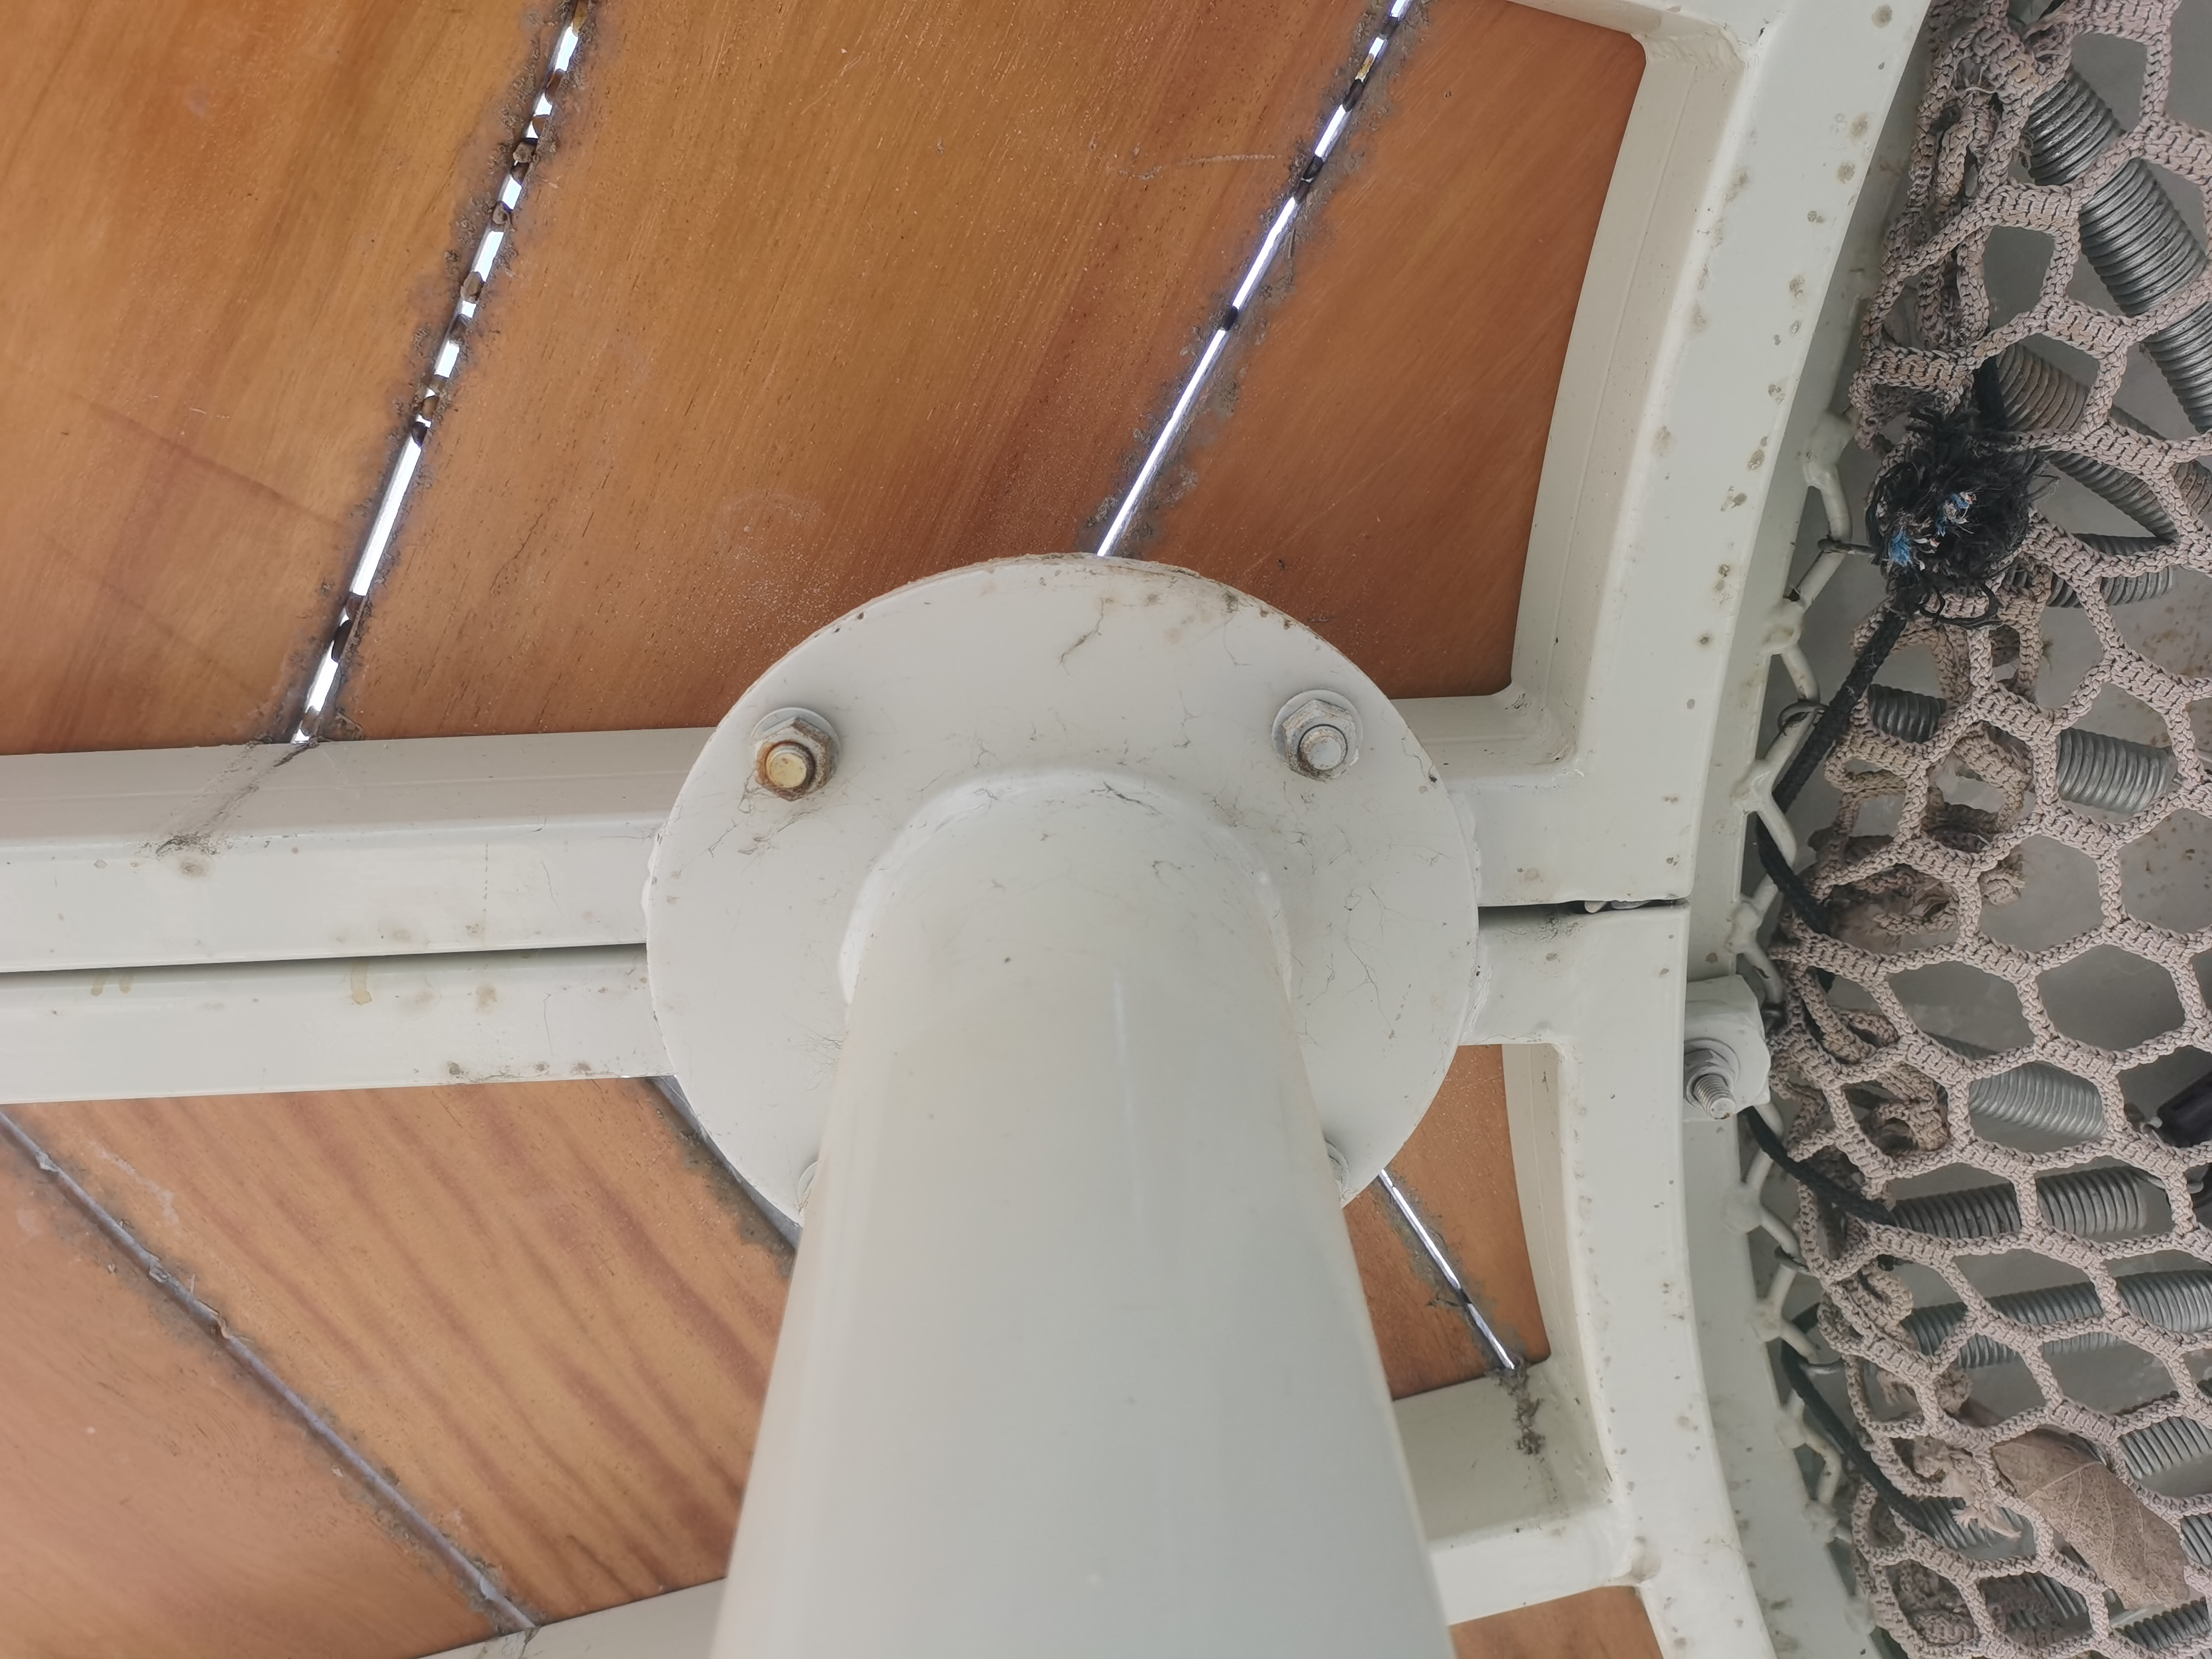bolt_b: (749, 711, 840, 805), (1273, 694, 1364, 786), (1674, 1047, 1742, 1119)
